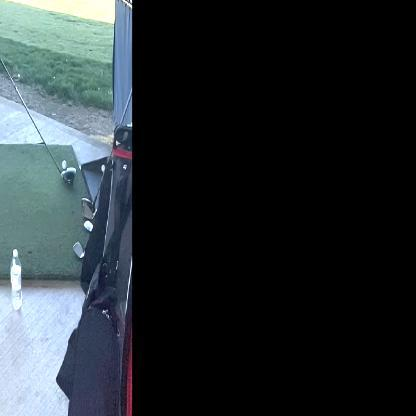GolfBall: (59, 166, 79, 188)
